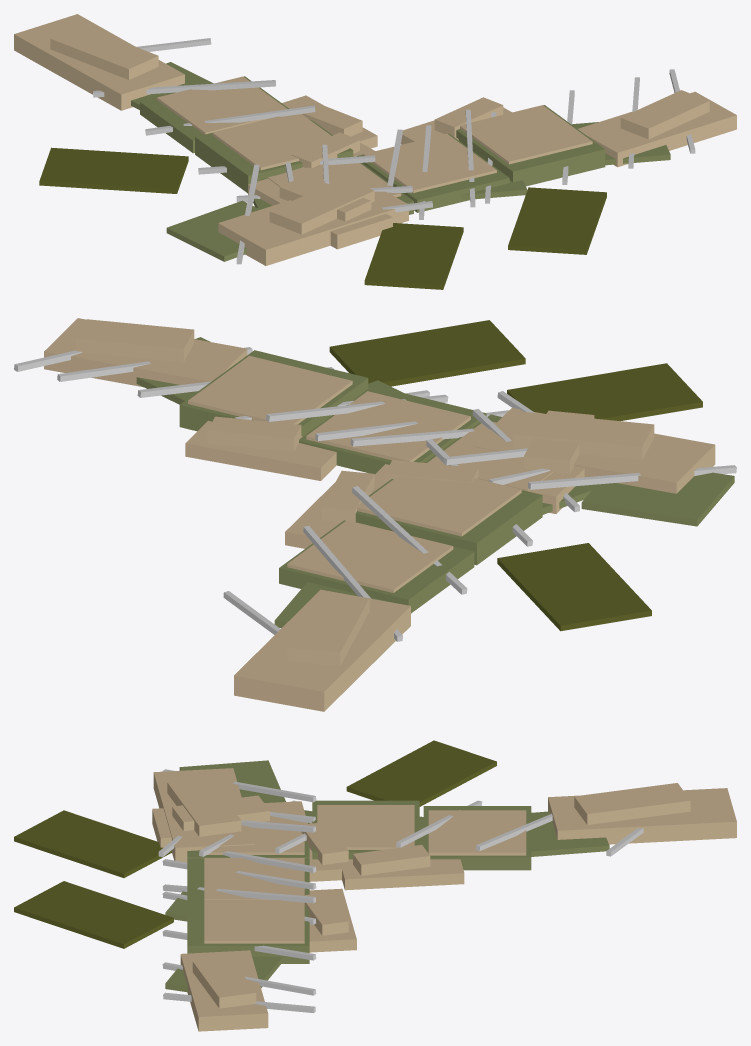
The model's file is SM_HescoEsquina_v4_Red_e3_Brecha_LOD0.fbx.
3 views of the same model, one above another, from view 1: azimuth 30°, elevation 25°; view 2: azimuth 150°, elevation 25°; view 3: azimuth 270°, elevation 25° (orthographic). The views are drawn at different scales.
Parts seen in each view (by area): view 1: SM_hesco_piezas_v19_LOD0; view 2: SM_hesco_piezas_v19_LOD0; view 3: SM_hesco_piezas_v19_LOD0.
Boxes of the visible parts, x1,y1,x2,y2 form: SM_hesco_piezas_v19_LOD0: (14, 14, 736, 289); SM_hesco_piezas_v19_LOD0: (14, 318, 736, 711); SM_hesco_piezas_v19_LOD0: (14, 740, 736, 1031).
Bounding box in the file's own units: 6.75 × 0.3263 × 7.21.
